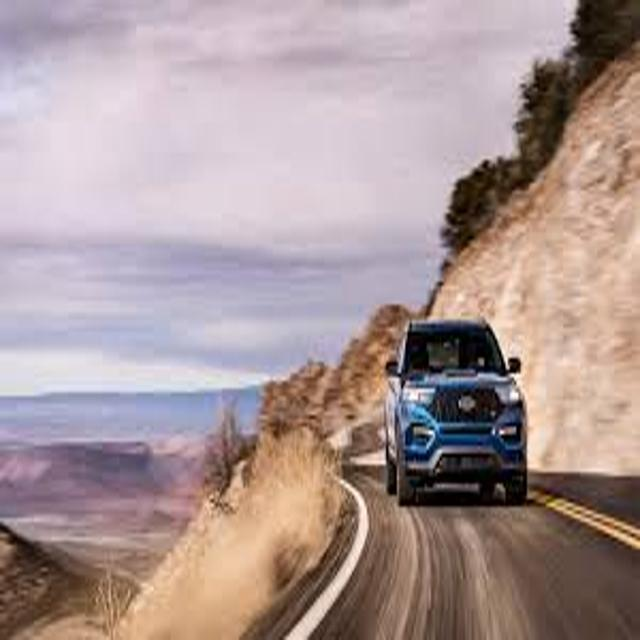car: (387, 320, 527, 503)
